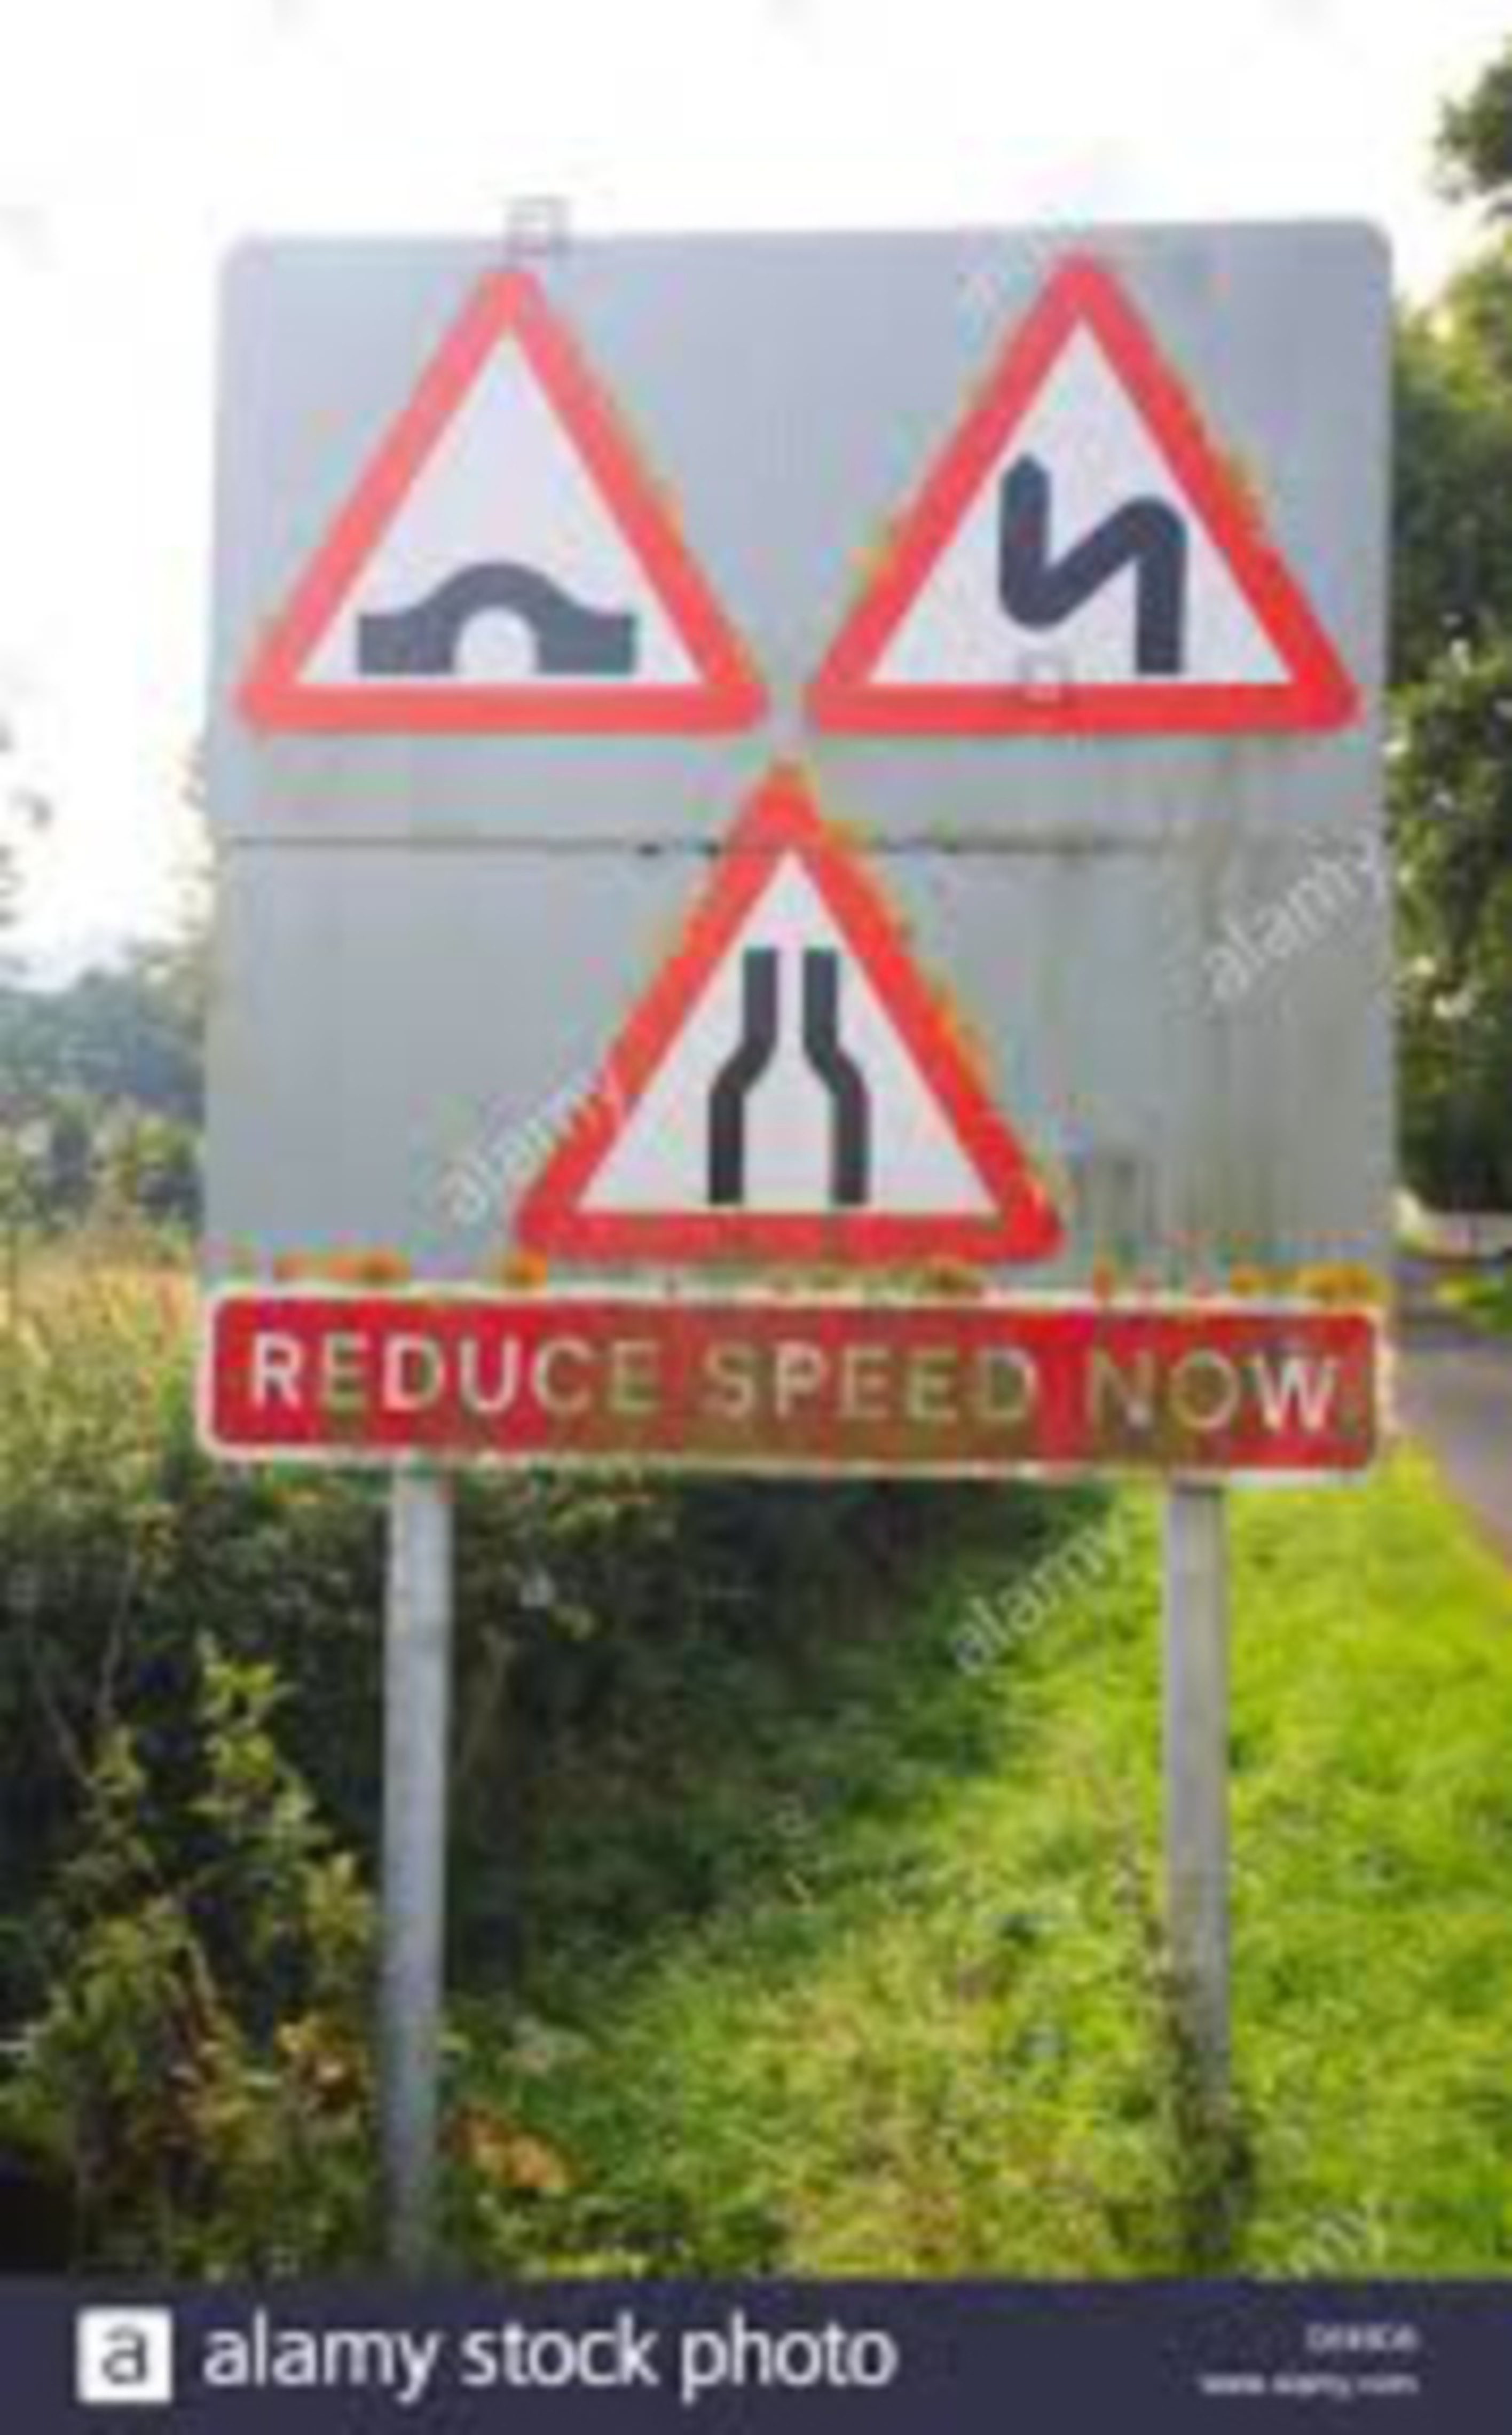Narrow_road: (500, 770, 1075, 1268)
